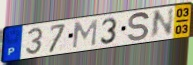3: (23, 26, 45, 56), (100, 16, 119, 45)
7: (49, 22, 68, 54)
M: (71, 18, 99, 50)
N: (149, 6, 176, 41)
S: (127, 11, 151, 42)
